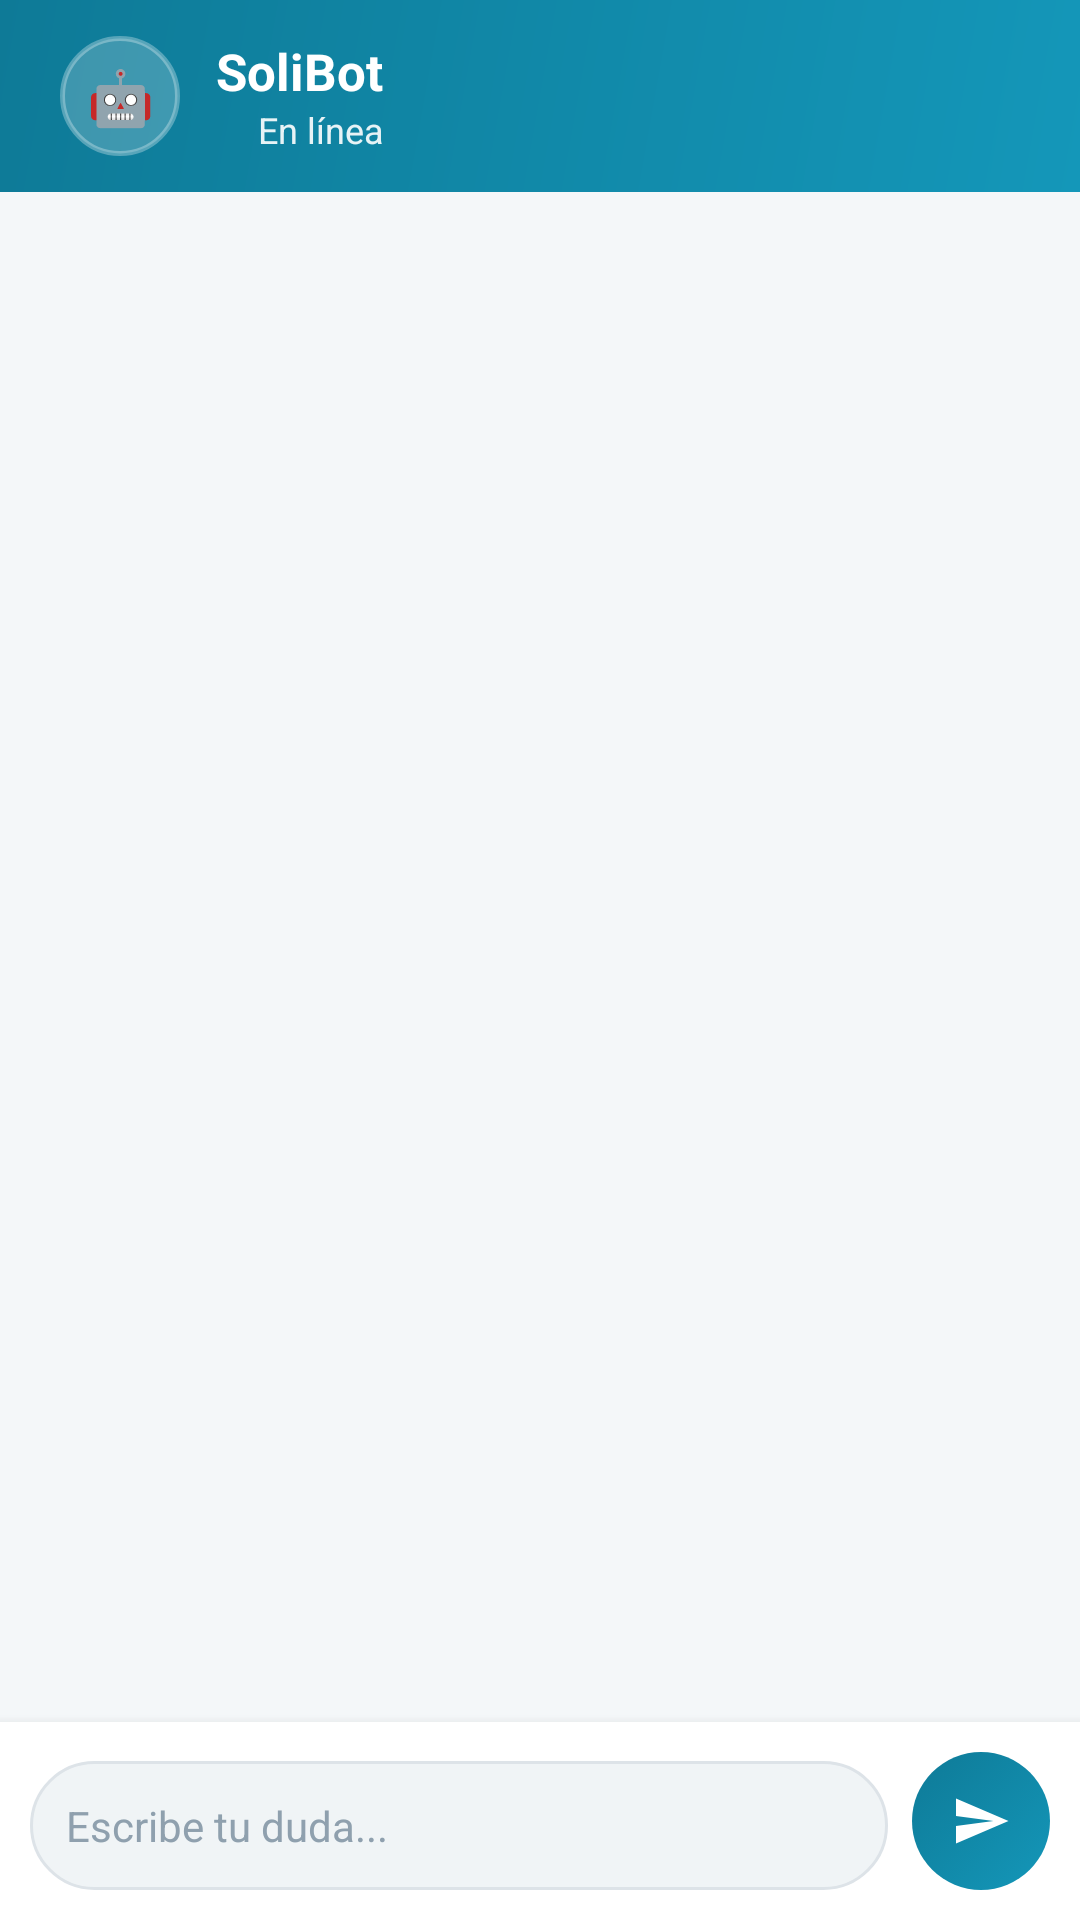

Icons on this 1080x1920 Android screen, each with its box as bbox(x1, y1, x2, y2):
Enviar: bbox(912, 1752, 1050, 1890)
